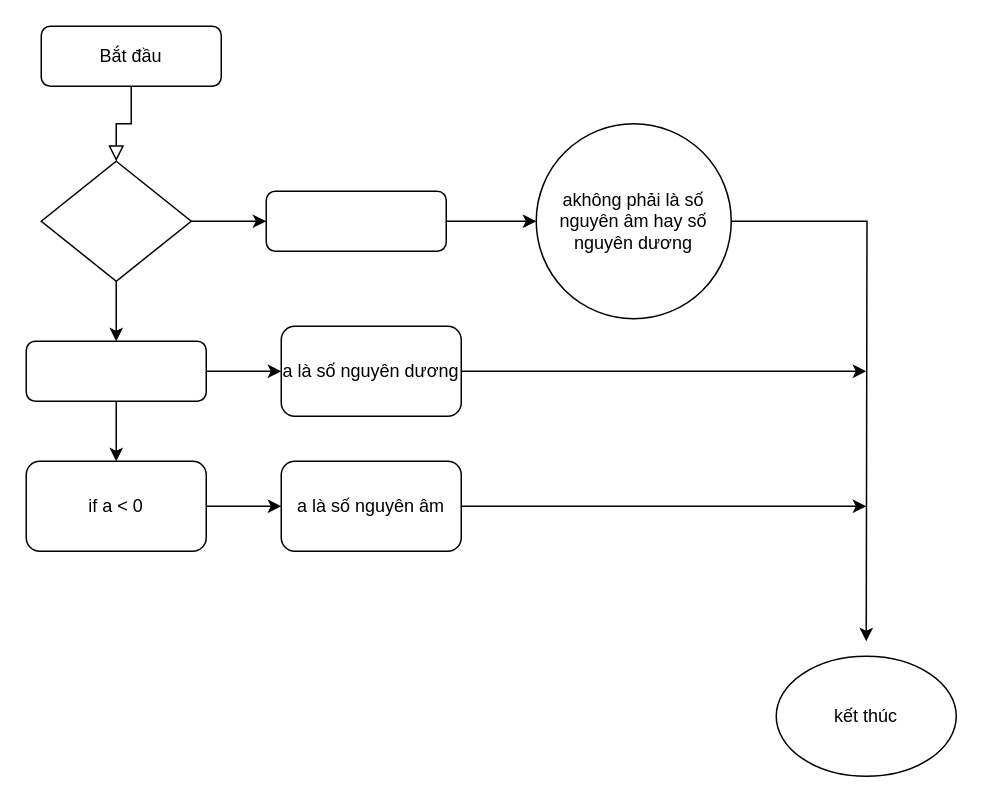
The diagram is 983 pixels wide and 803 high, and some of its shapes have lost their labels. The centre of each missing label's shape, as x and y in pixels:
"a = 0" belongs at pixel 355 220.
"if a >0" belongs at pixel 115 370.
"Nhập một số a" belongs at pixel 115 220.
